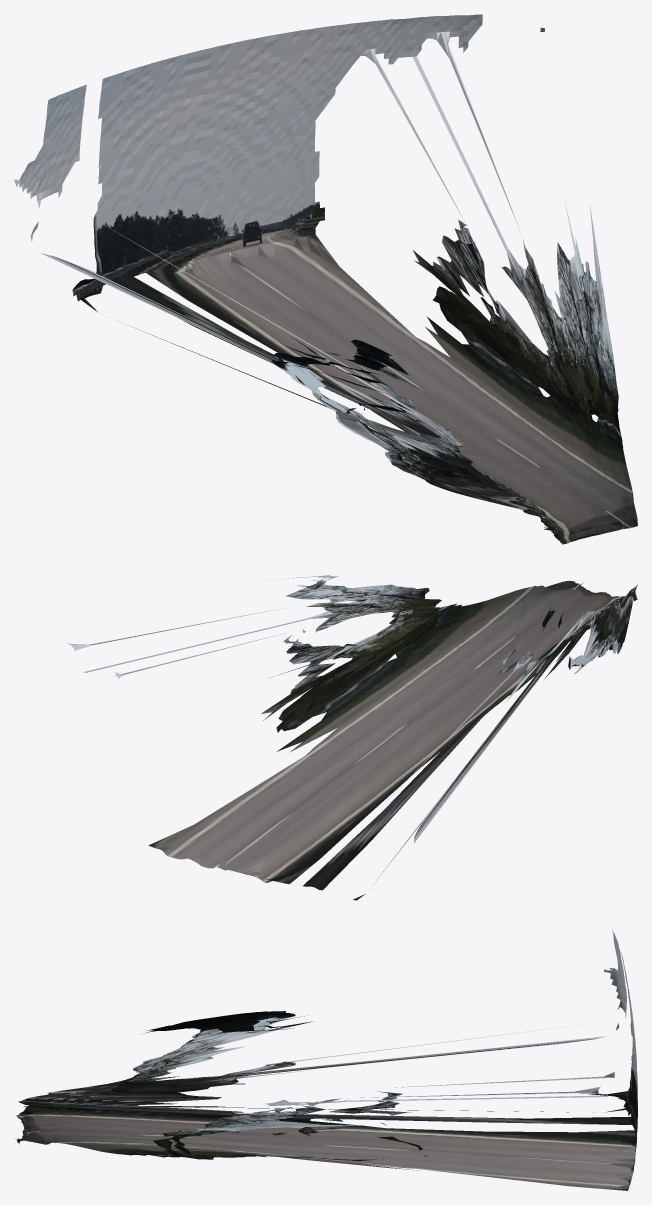
The picture shows the model from 3 angles, top to bottom: view 1: azimuth 30°, elevation 25°; view 2: azimuth 150°, elevation 25°; view 3: azimuth 270°, elevation 25°; orthographic projection. The views are drawn at different scales.
Parts seen in each view (by area): view 1: defaultobject; view 2: defaultobject; view 3: defaultobject.
Part boxes in pixels (left/top/right/bottom): defaultobject: left=14, top=14, right=637, bottom=544; defaultobject: left=68, top=575, right=637, bottom=900; defaultobject: left=15, top=929, right=637, bottom=1190.
Size of the model in its own units: 31.75 by 13.41 by 44.77.
1 material, 1 textured.
